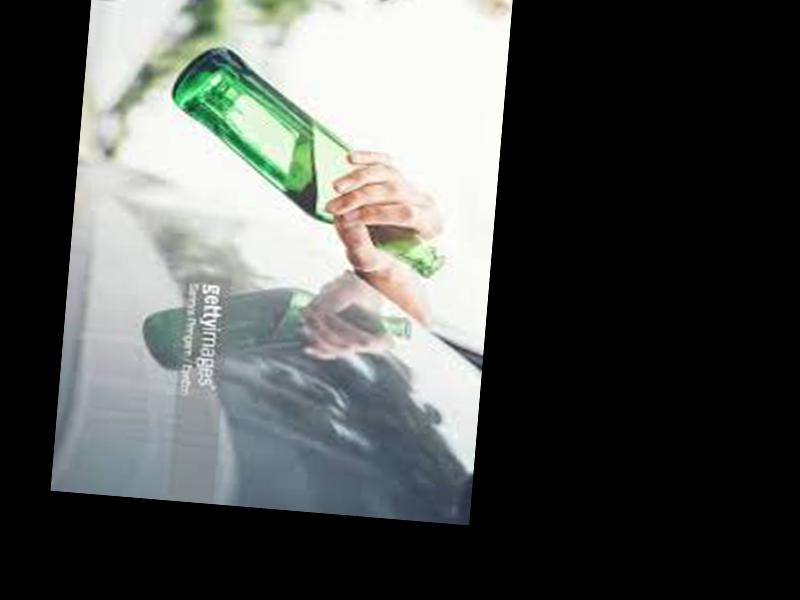Beer: (156, 45, 458, 282)
